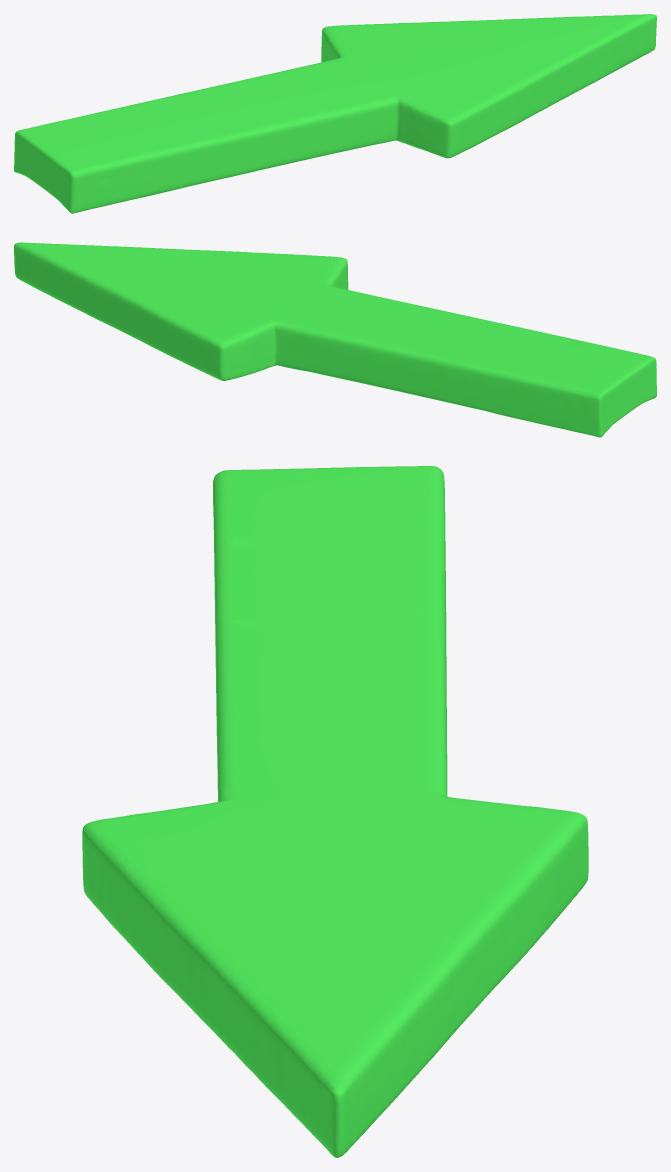
File: modelgreen.glb
3 views of the same model, one above another, from view 1: azimuth 30°, elevation 25°; view 2: azimuth 150°, elevation 25°; view 3: azimuth 270°, elevation 25° (orthographic). The views are drawn at different scales.
Parts seen in each view (by area): view 1: Mesh_0.001; view 2: Mesh_0.001; view 3: Mesh_0.001.
Boxes of the visible parts, x1,y1,x2,y2 form: Mesh_0.001: [14, 14, 656, 213]; Mesh_0.001: [14, 242, 656, 437]; Mesh_0.001: [82, 466, 588, 1157].
Size of the model in its own units: 2 by 0.1624 by 0.716.
